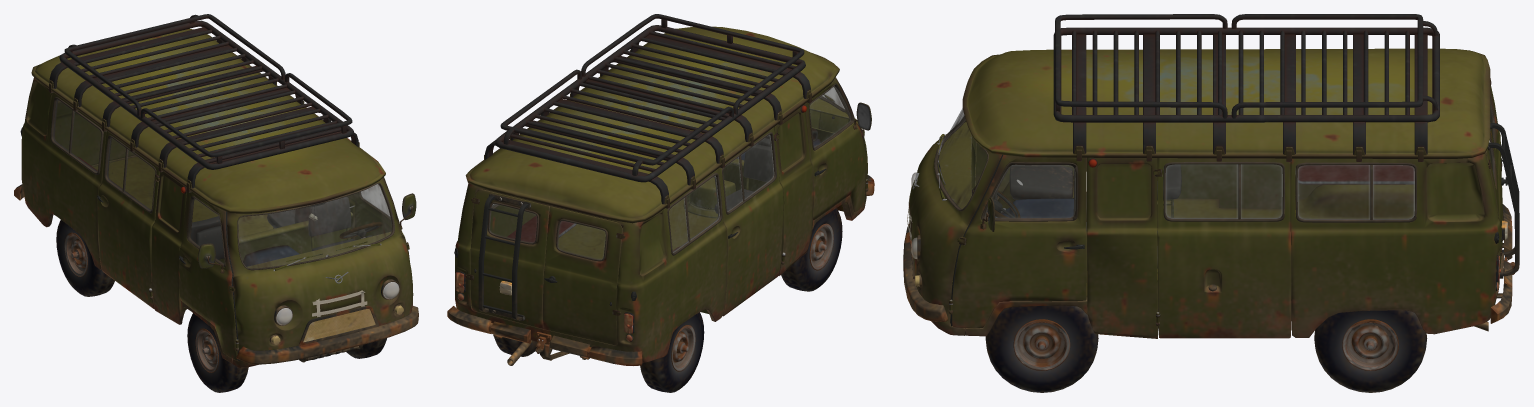
The model's file is uaz-452.glb.
3 views of the same model, side by side, from view 1: azimuth 30°, elevation 25°; view 2: azimuth 150°, elevation 25°; view 3: azimuth 270°, elevation 25° (orthographic). The views are drawn at different scales.
Visible parts, largest first — view 1: defaultMaterial (×3); view 2: defaultMaterial (×3); view 3: defaultMaterial (×3).
Boxes of the visible parts, x1=… form: defaultMaterial (×3): x1=14, y1=14, x2=418, y2=392; defaultMaterial (×3): x1=447, y1=14, x2=874, y2=392; defaultMaterial (×3): x1=903, y1=14, x2=1519, y2=392.
Size of the model in its own units: 2.41 by 2.42 by 4.7.
3 materials, 3 textured.
